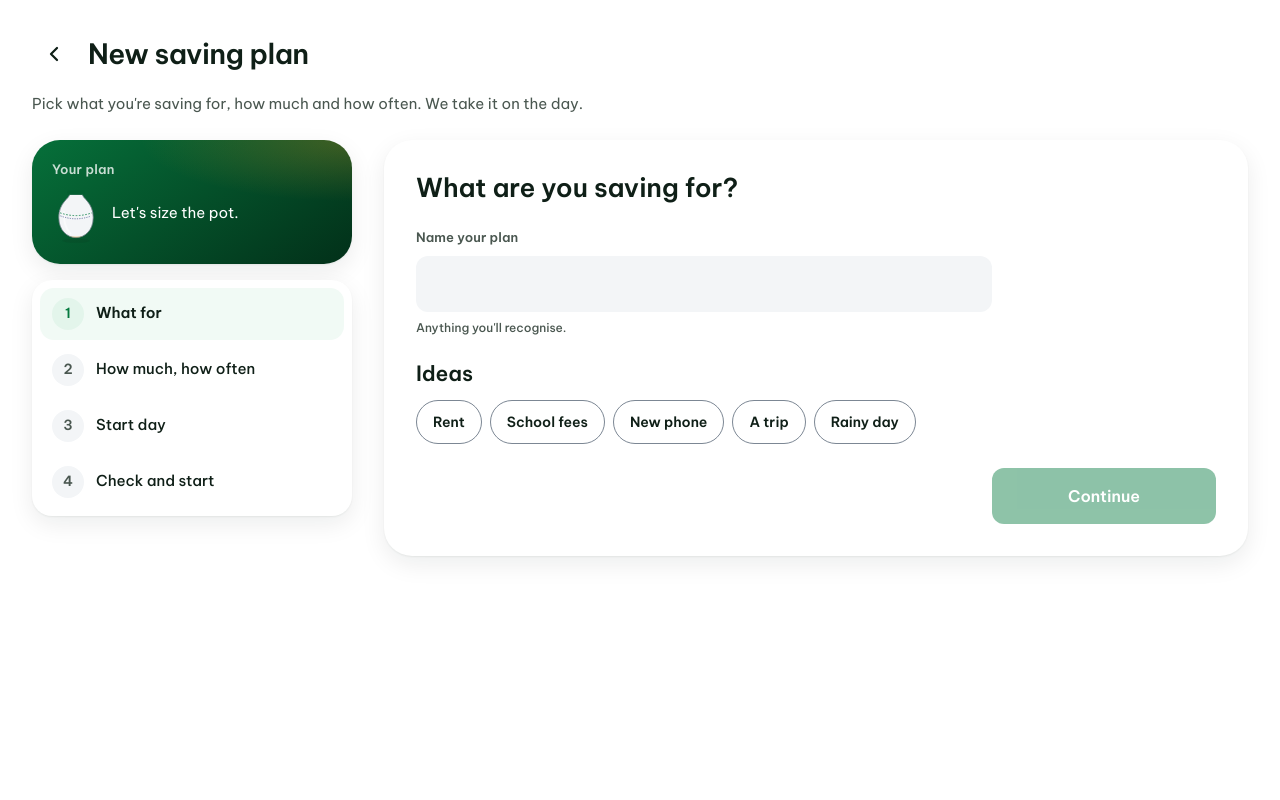
it: starting a plan › will not go on without a name or an amount, and goes back a step at a time
Expected: the button "Continue" is disabled, [992,468,1216,524]
Click the radio button labelled "Rent" at (449, 422), box [416,400,482,444]
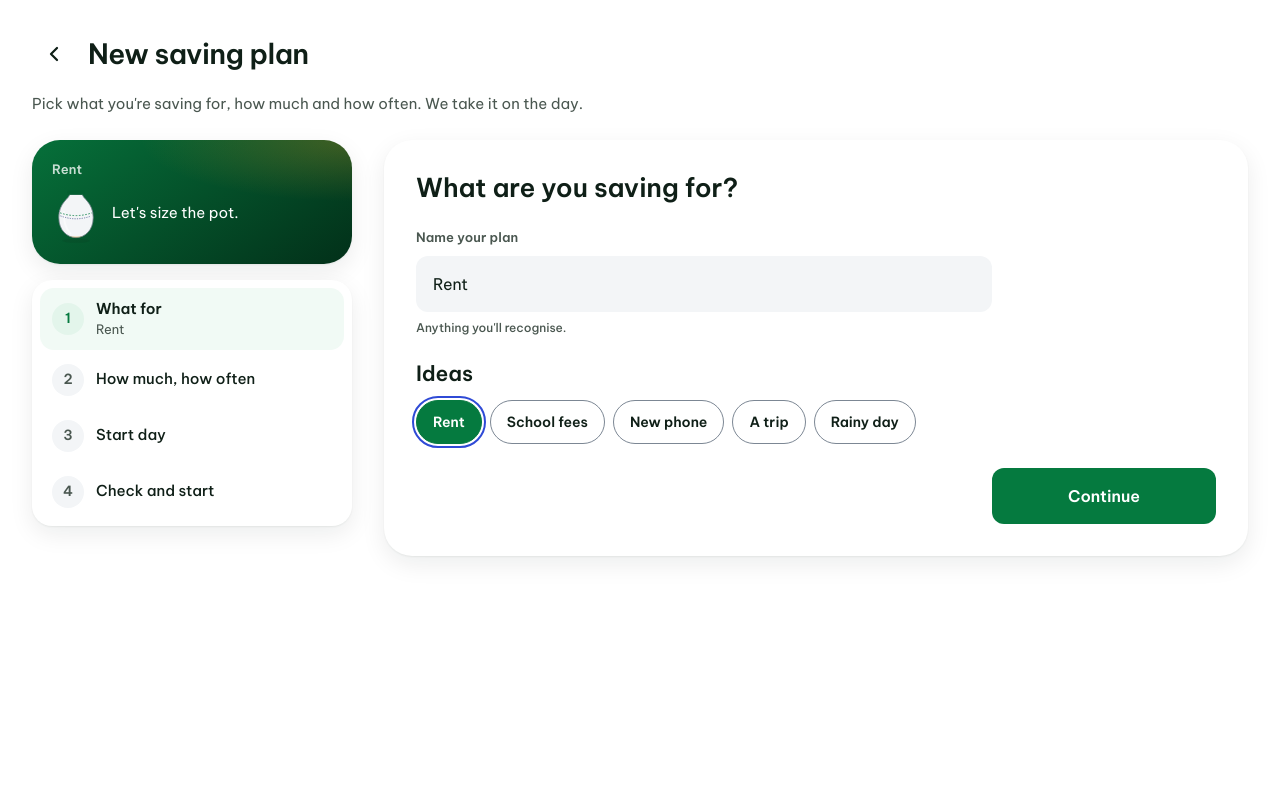
Expected: the field labelled "Name your plan" holds "Rent", [416,256,992,312]
Click the button "Continue" at (1104, 496), box [992,468,1216,524]
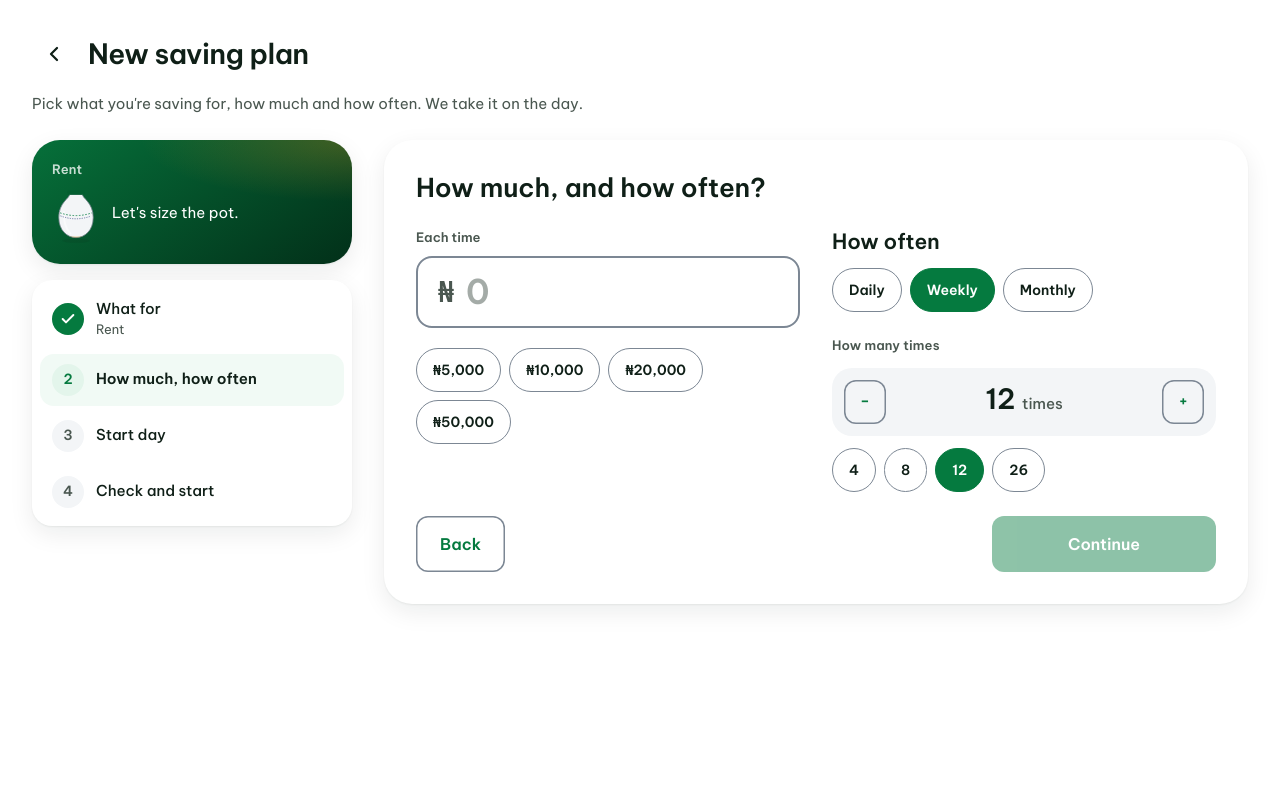
Expected: the button "Continue" is disabled, [992,516,1216,572]
Click the button named "Back" at (54, 54), box [32,32,76,76]
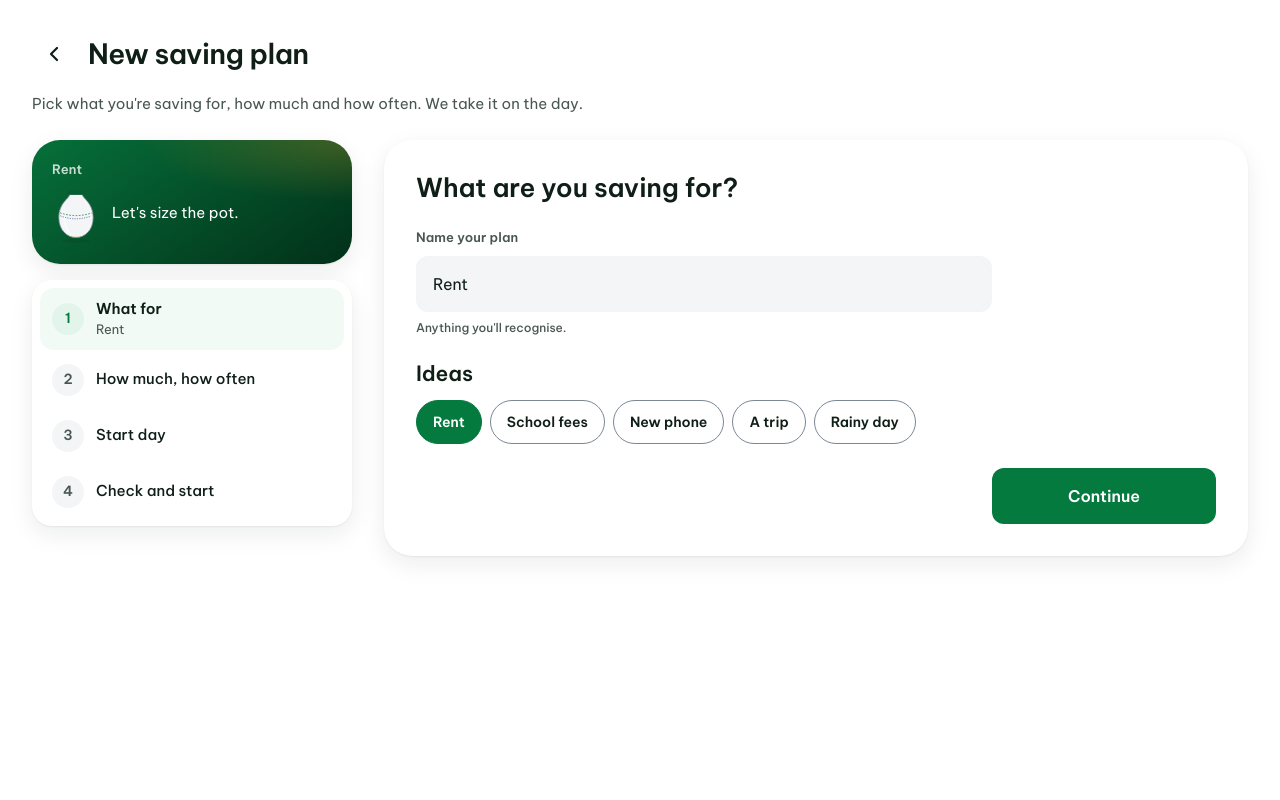
Expected: the heading "What are you saving for?" is shown, [416,171,738,204]
